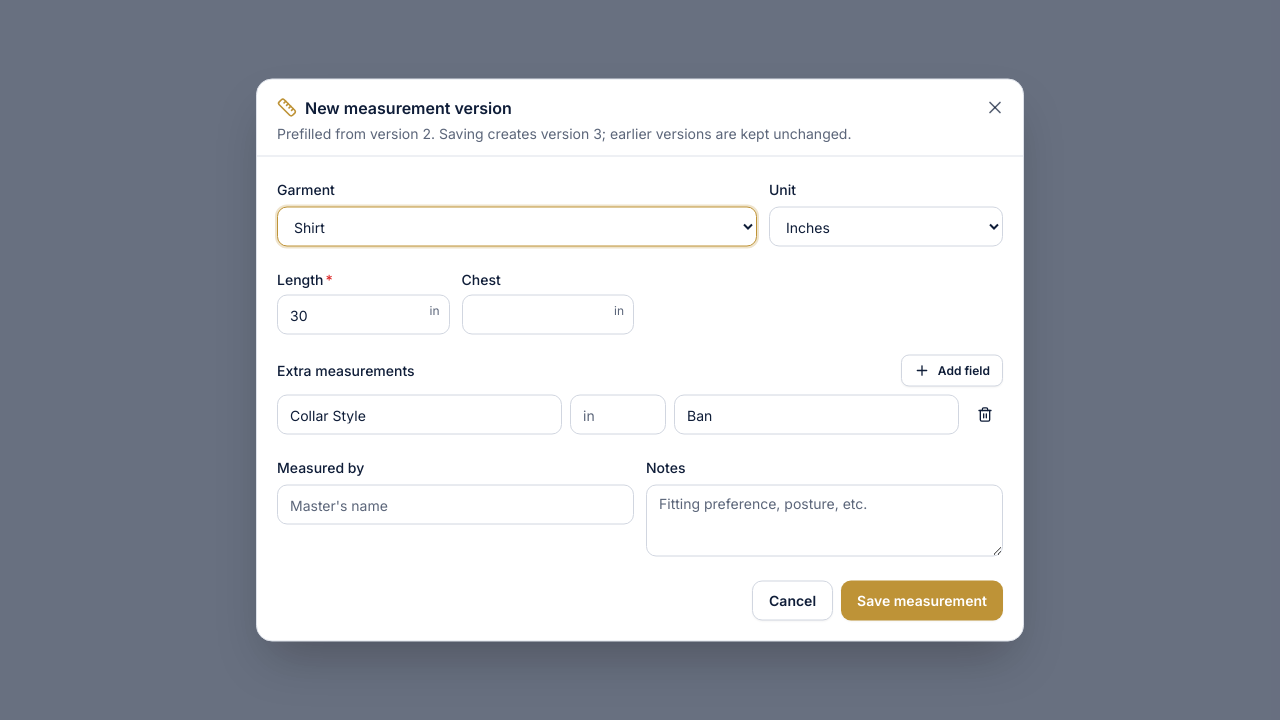
Test case: MeasurementFormDialog › prefills from the latest version and converts when the unit changes
Expected: the text "Prefilled from version 2" is shown, [277,124,852,142]
Expected: the field labelled "Length*" holds "30", [277,294,450,334]
Step 1. Select "Centimetres" in the dropdown labelled "Unit" → (886, 226), box [769,206,1003,246]
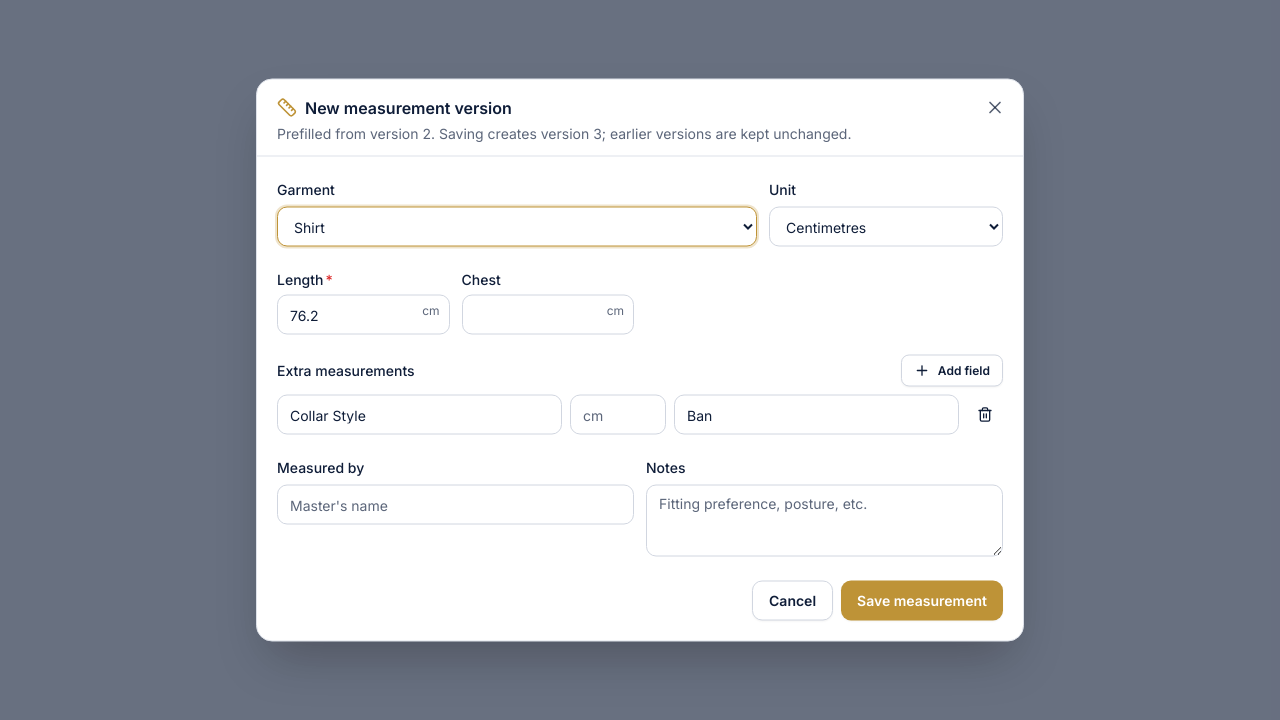
Expected: the field labelled "Length*" holds "76.2", [277,294,450,334]
